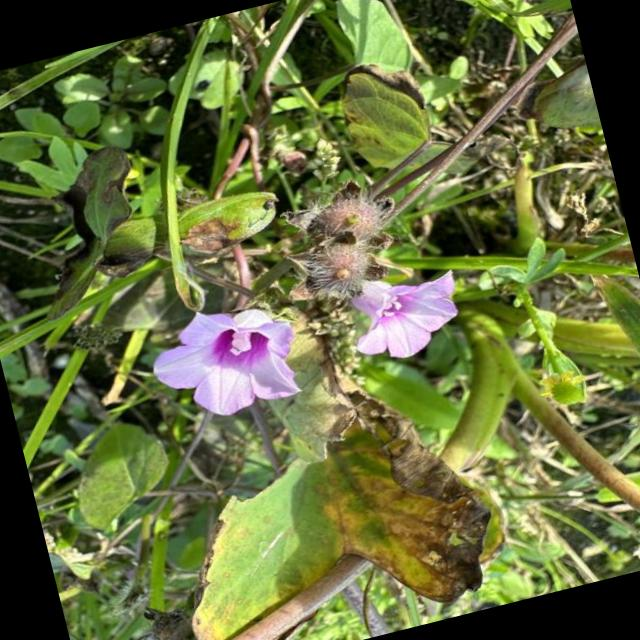ipomoea: (136, 286, 314, 434), (334, 257, 473, 372)
